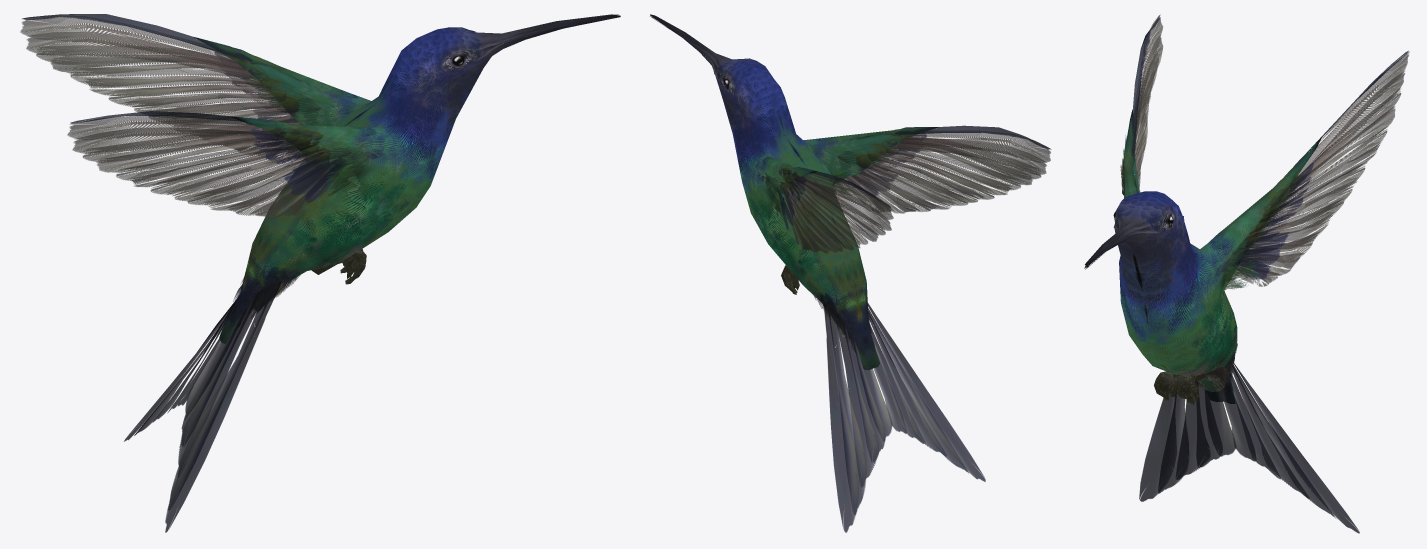
Rendered from zumbadorcito_noshader.glb.
3 views of the same model, side by side, from view 1: azimuth 30°, elevation 25°; view 2: azimuth 150°, elevation 25°; view 3: azimuth 270°, elevation 25° (orthographic). The views are drawn at different scales.
Parts seen in each view (by area): view 1: BODY; view 2: BODY; view 3: BODY.
Part boxes in pixels (box(x1,y1,x2,y2)): BODY: box(20, 14, 620, 532); BODY: box(650, 14, 1051, 532); BODY: box(1084, 15, 1409, 533).
Bounding box in the file's own units: 7.92 × 6.33 × 4.13.
2 materials, 2 textured.
